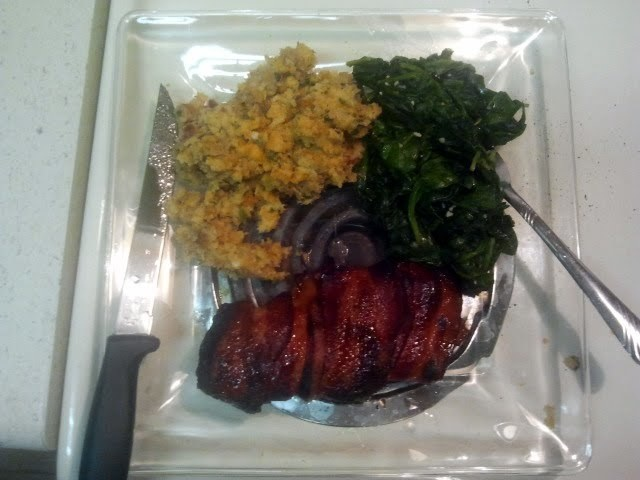background: (166, 29, 529, 310)
